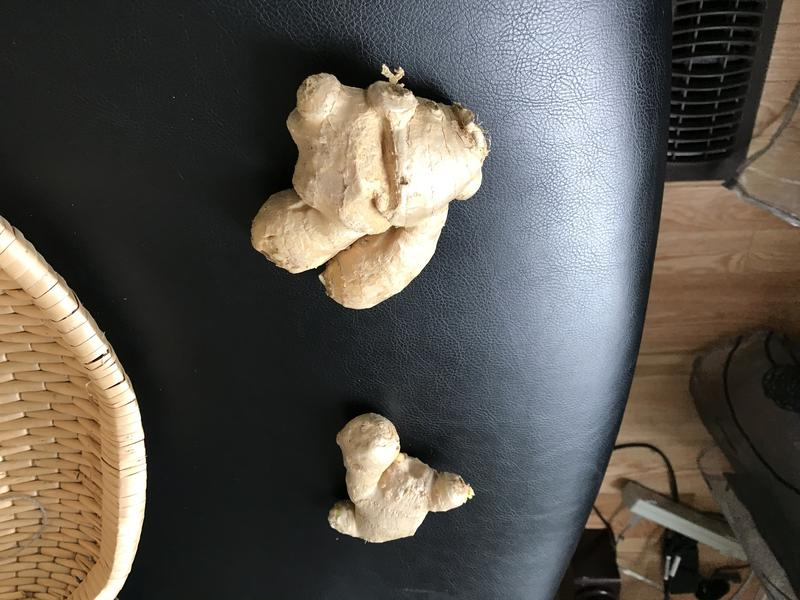ginger: (236, 56, 505, 321), (317, 405, 484, 557)
